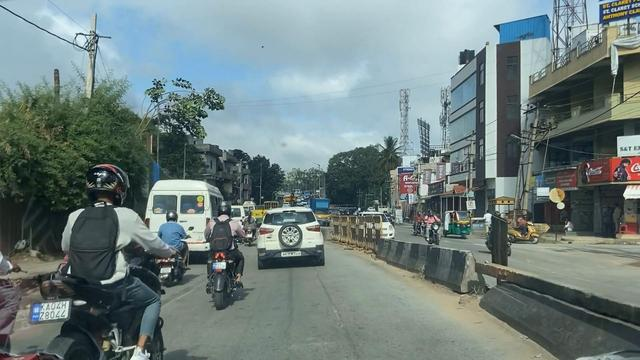LMV: (262, 209, 324, 268), (209, 207, 240, 315)
